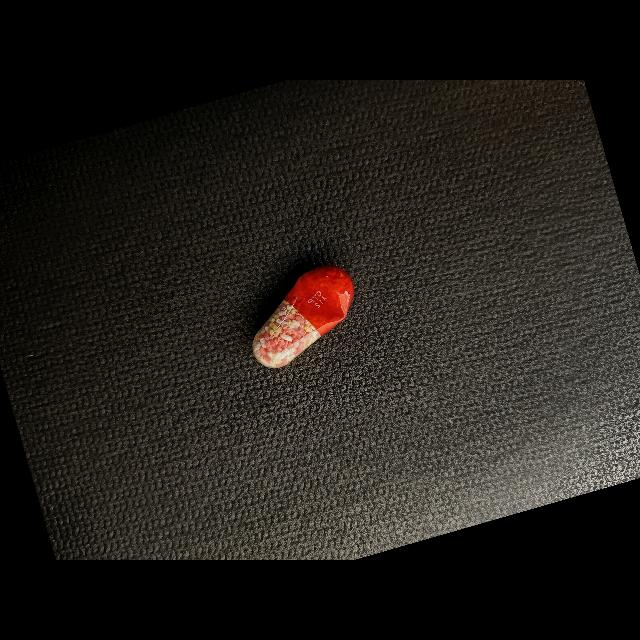Defective Capsule: (252, 267, 354, 368)
